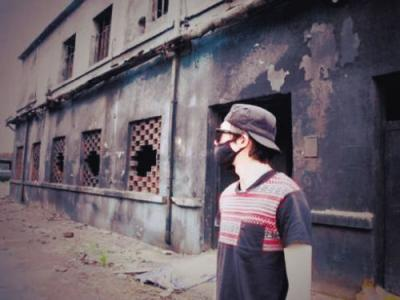yes_mask: (212, 101, 282, 173)
